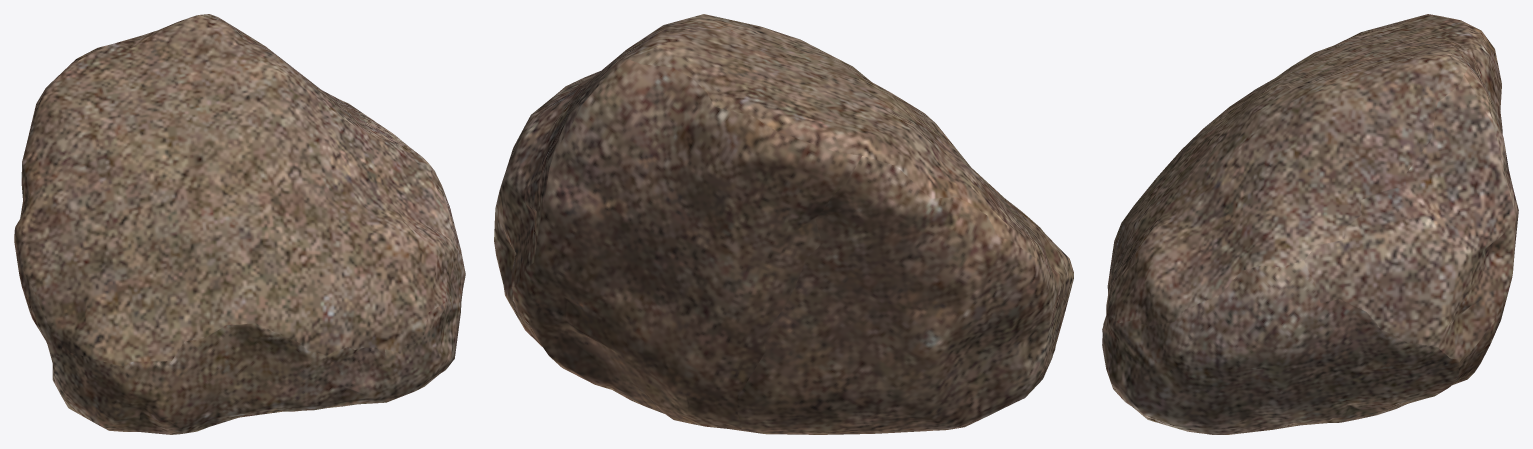
File: SM_For_Sca_Rock_Set_01_B.gltf
The picture shows the model from 3 angles, left to right: view 1: azimuth 30°, elevation 25°; view 2: azimuth 150°, elevation 25°; view 3: azimuth 270°, elevation 25°; orthographic projection. The views are drawn at different scales.
Visible parts, largest first — view 1: SM_For_Sca_Rock_Set_01_B; view 2: SM_For_Sca_Rock_Set_01_B; view 3: SM_For_Sca_Rock_Set_01_B.
Boxes of the visible parts, bbox=[...] form: SM_For_Sca_Rock_Set_01_B: bbox=[14, 14, 465, 434]; SM_For_Sca_Rock_Set_01_B: bbox=[494, 14, 1073, 434]; SM_For_Sca_Rock_Set_01_B: bbox=[1102, 14, 1518, 434].
Size of the model in its own units: 0.1602 by 0.1203 by 0.1344.
1 material, 1 textured.
